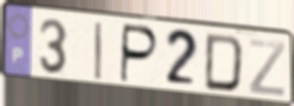2: (163, 28, 202, 94)
3: (38, 17, 71, 77)
D: (203, 32, 247, 95)
I: (93, 20, 104, 82)
P: (118, 22, 161, 86)
Z: (248, 37, 286, 98)
